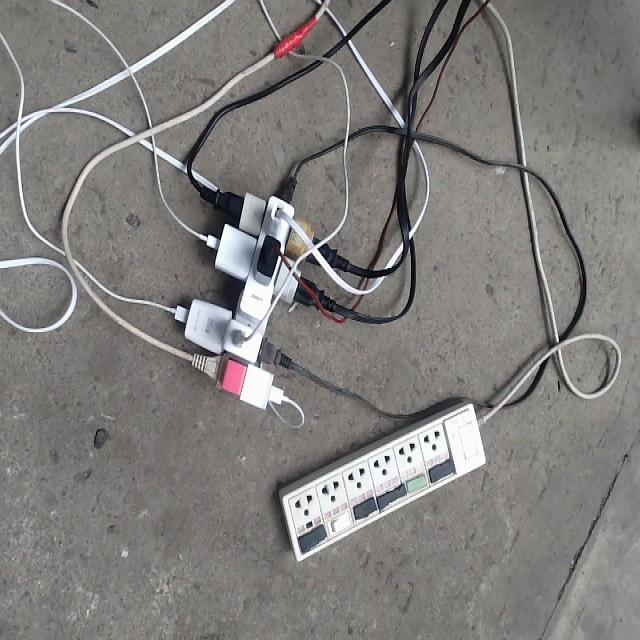-: (176, 172, 330, 409)
